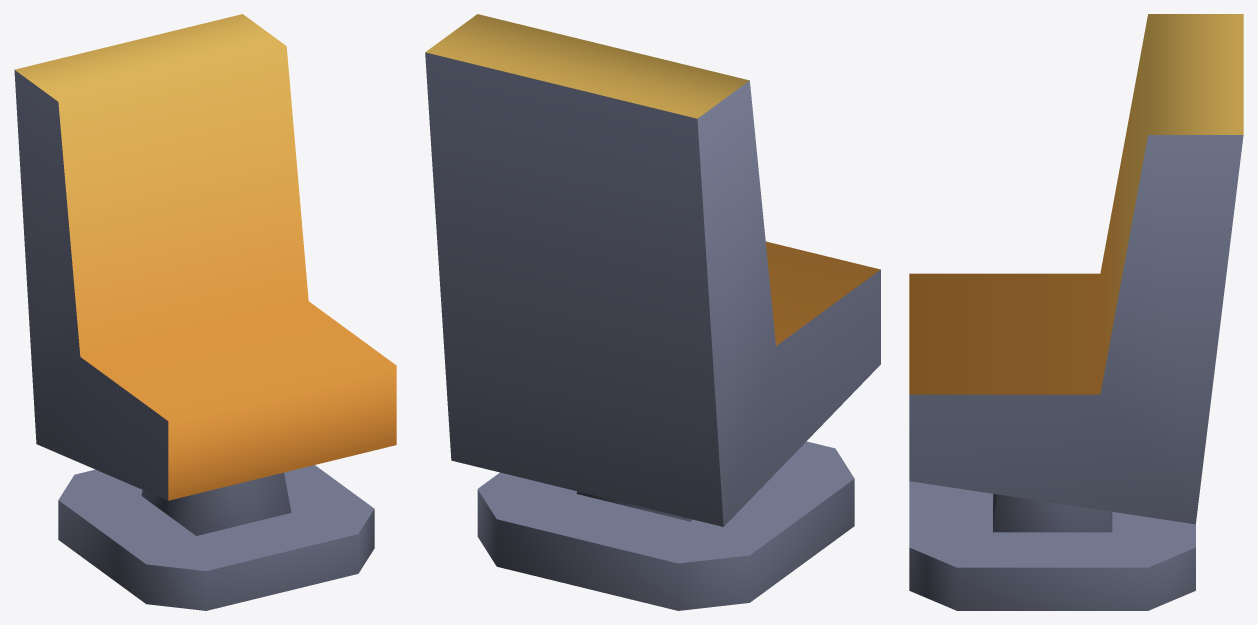
File: chair.glb
The picture shows the model from 3 angles, left to right: view 1: azimuth 30°, elevation 25°; view 2: azimuth 150°, elevation 25°; view 3: azimuth 270°, elevation 25°; orthographic projection. The views are drawn at different scales.
Parts seen in each view (by area): view 1: chair; view 2: chair; view 3: chair.
Part boxes in pixels (x1,y1,x2,y2): chair: (14, 14, 396, 610); chair: (425, 14, 880, 610); chair: (909, 14, 1243, 610).
Bounding box in the file's own units: 0.3 × 0.55 × 0.35.
